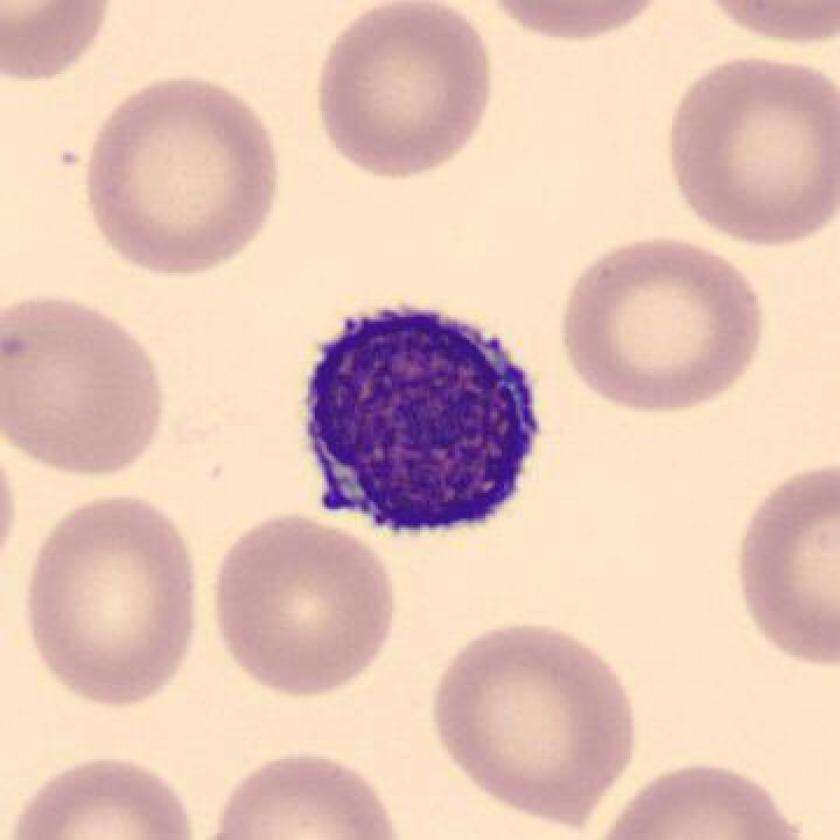lymphocyte: (286, 293, 556, 552)
